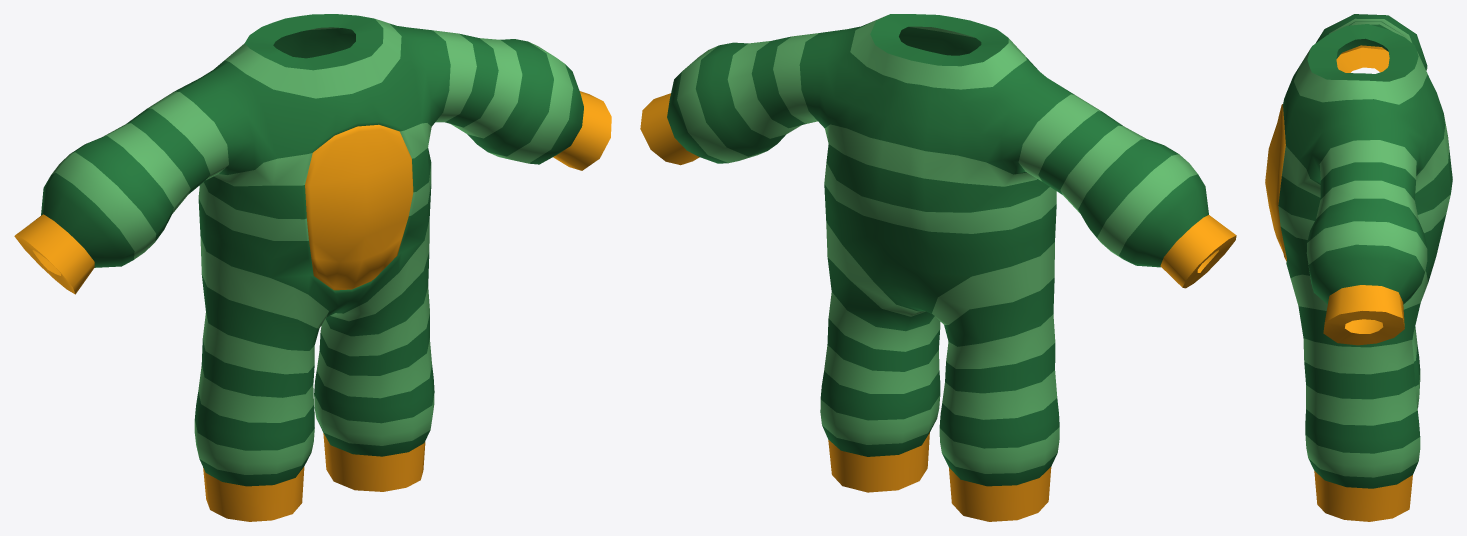
Rendered from Costume_12_01.glb.
3 renders of one model, left to right at view 1: azimuth 30°, elevation 25°; view 2: azimuth 150°, elevation 25°; view 3: azimuth 270°, elevation 25°, orthographic. The views are drawn at different scales.
Parts seen in each view (by area): view 1: Costume_12_01; view 2: Costume_12_01; view 3: Costume_12_01.
Part boxes in pixels (box(x1,y1,x2,y2)): Costume_12_01: box(14, 14, 611, 521); Costume_12_01: box(640, 14, 1236, 521); Costume_12_01: box(1265, 14, 1452, 521).
Bounding box in the file's own units: 0.6449 × 0.484 × 0.1944.
1 material, 1 textured.
